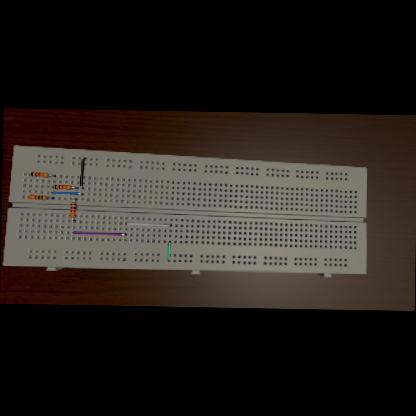breadboard: (1, 144, 366, 276)
resistor: (69, 201, 75, 216), (52, 183, 70, 188), (30, 171, 48, 176), (28, 194, 46, 198)
wire: (70, 230, 125, 234), (78, 156, 85, 187), (123, 221, 170, 225), (50, 190, 82, 193), (166, 239, 169, 260), (72, 197, 76, 200), (70, 186, 77, 187), (72, 216, 74, 219), (28, 172, 30, 174), (50, 185, 52, 186), (46, 196, 52, 196), (46, 174, 54, 174)
